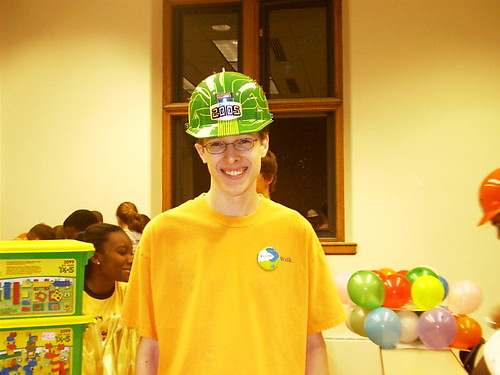person hardhat: (133, 69, 349, 375)
